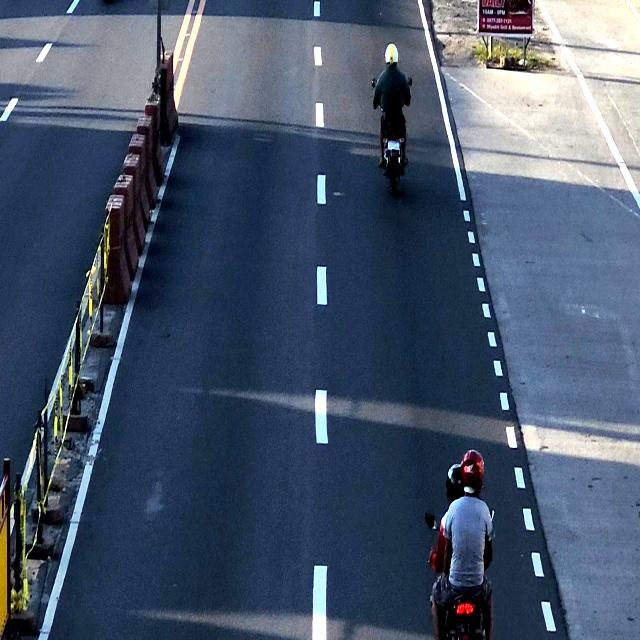Motorcycle: (429, 451, 499, 640), (374, 44, 415, 193)
